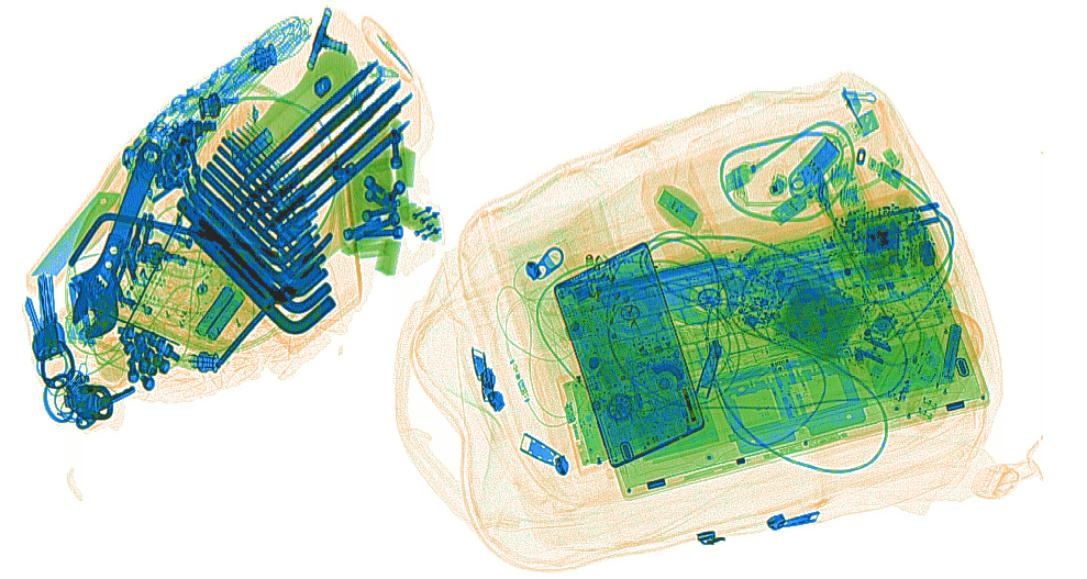USBFlashDisk: (797, 103, 884, 168), (657, 188, 698, 229)
battery: (192, 284, 246, 341), (941, 321, 963, 380)
knife: (30, 189, 122, 278)
